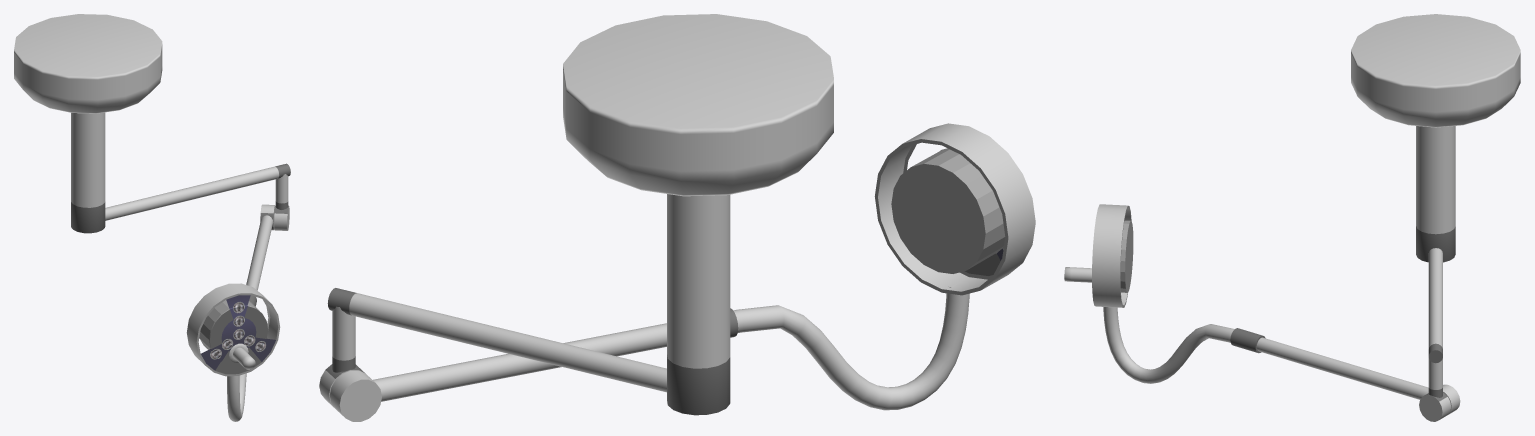
The model's file is overhead_crib_light.fbx.
The picture shows the model from 3 angles, left to right: view 1: azimuth 30°, elevation 25°; view 2: azimuth 150°, elevation 25°; view 3: azimuth 270°, elevation 25°; orthographic projection. The views are drawn at different scales.
Visible parts, largest first — view 1: overhead_light, light_face, pole1, hook_pole, pole2, light_nose, pivot2; view 2: overhead_light, light_face, hook_pole, pole1, pivot3, pole2; view 3: overhead_light, hook_pole, light_face, pole1, pivot2, pole2.
Boxes of the visible parts, left/top/right/bottom form: overhead_light: left=14, top=14, right=162, bottom=233; light_face: left=186, top=283, right=280, bottom=376; pole1: left=105, top=163, right=290, bottom=220; hook_pole: left=227, top=215, right=273, bottom=421; pole2: left=275, top=174, right=288, bottom=209; light_nose: left=229, top=343, right=255, bottom=369; pivot2: left=274, top=205, right=289, bottom=230; overhead_light: left=563, top=14, right=833, bottom=415; light_face: left=874, top=123, right=1035, bottom=295; hook_pole: left=373, top=281, right=969, bottom=410; pole1: left=327, top=288, right=666, bottom=392; pivot3: left=329, top=370, right=381, bottom=421; pole2: left=332, top=306, right=355, bottom=372; overhead_light: left=1351, top=14, right=1520, bottom=262; hook_pole: left=1103, top=307, right=1428, bottom=399; light_face: left=1092, top=204, right=1133, bottom=307; pole1: left=1428, top=248, right=1442, bottom=363; pivot2: left=1419, top=392, right=1450, bottom=421; pole2: left=1428, top=358, right=1442, bottom=397.
Size of the model in its own units: 4.16 by 4.19 by 5.38.
Materials: 4 (1 with a texture image).
